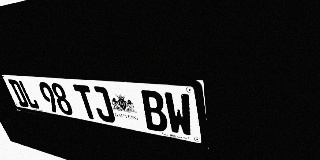8: (49, 82, 74, 116)
9: (37, 81, 61, 113)
B: (139, 90, 169, 133)
D: (8, 79, 30, 108)
J: (89, 86, 116, 123)
L: (17, 80, 41, 110)
T: (73, 84, 99, 120)
W: (163, 92, 194, 138)
